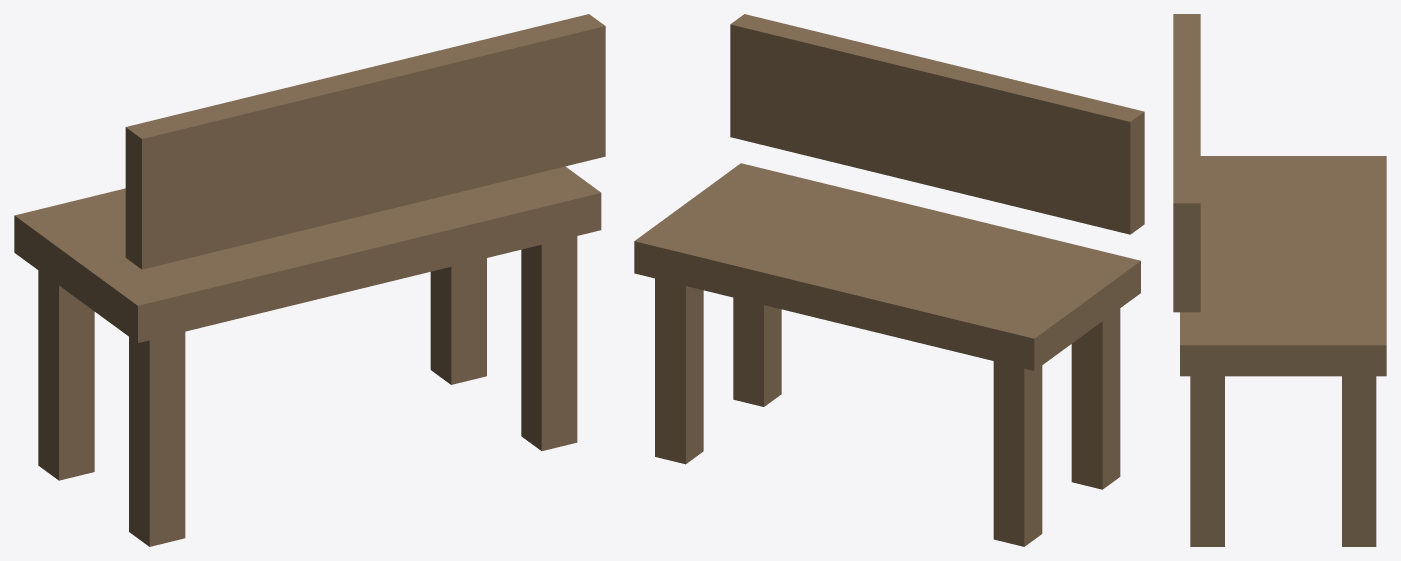
The picture shows the model from 3 angles, left to right: view 1: azimuth 30°, elevation 25°; view 2: azimuth 150°, elevation 25°; view 3: azimuth 270°, elevation 25°; orthographic projection. The views are drawn at different scales.
Parts seen in each view (by area): view 1: CraftingBench; view 2: CraftingBench; view 3: CraftingBench.
Boxes of the visible parts, x1,y1,x2,y2 form: CraftingBench: [14, 14, 605, 546]; CraftingBench: [634, 14, 1144, 546]; CraftingBench: [1173, 14, 1386, 546].
Bounding box in the file's own units: 169 × 146 × 80.6.
